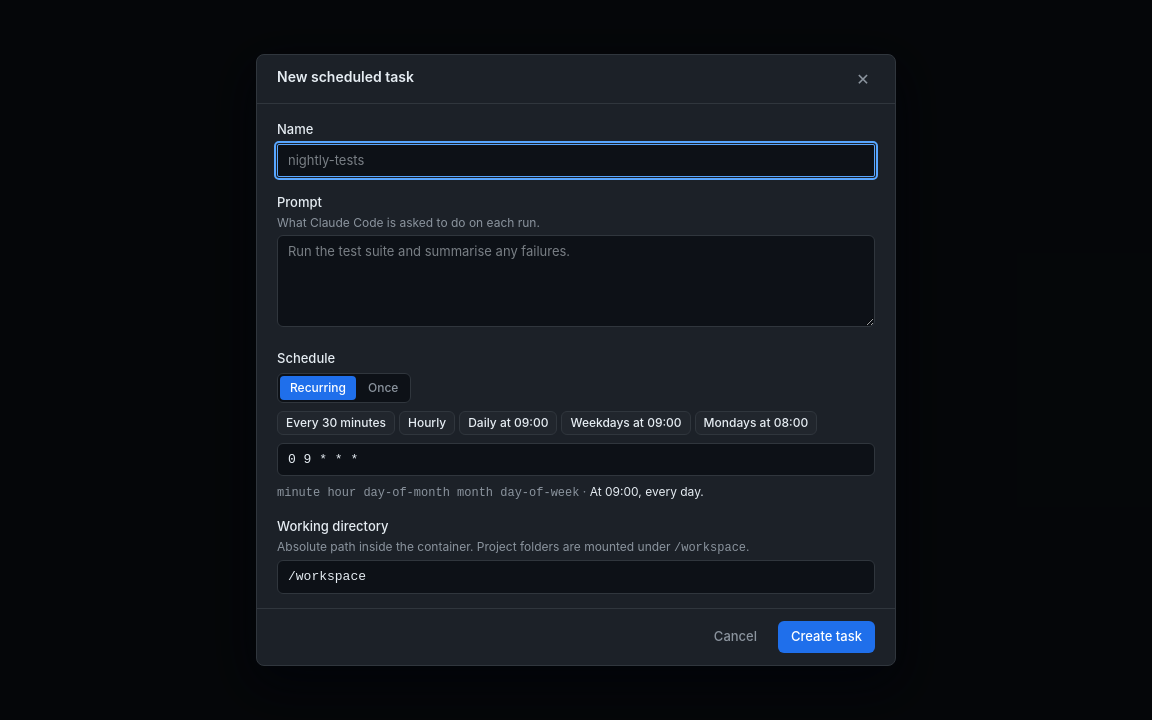
Test: TaskEditorModal › reads the cron expression back in English
Replace the text in the field named "cron expression" with "0 9 * * 1-5" at (576, 459), box [277,442,875,476]
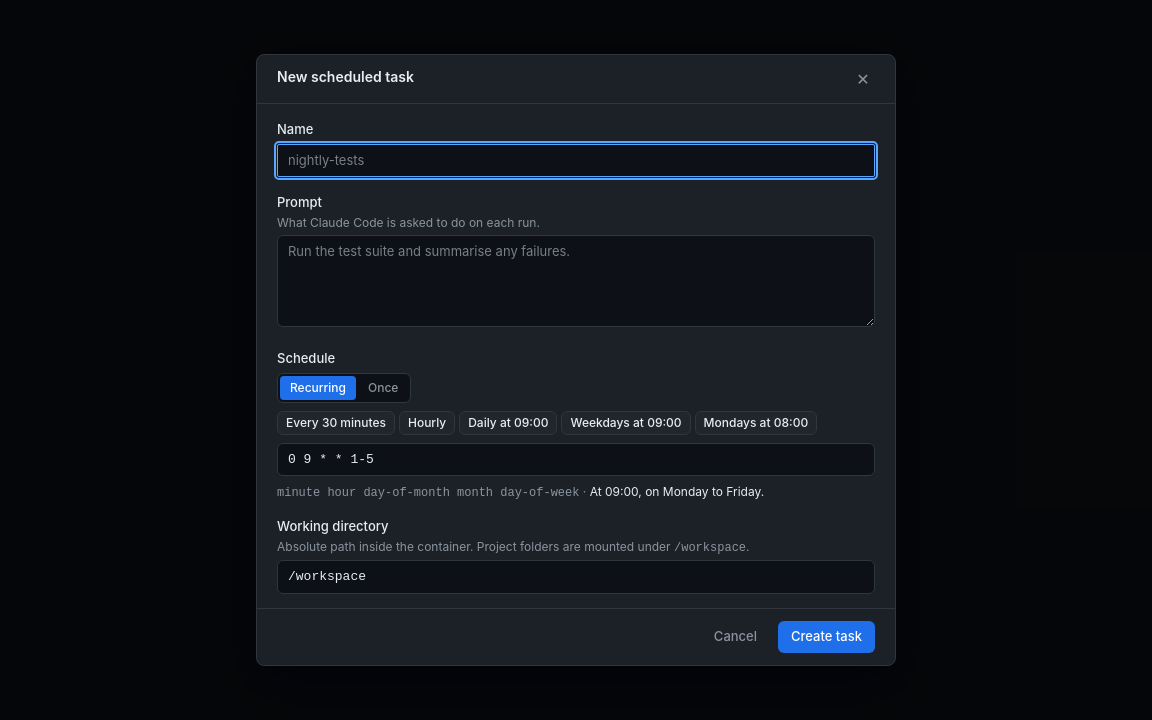
Now the text "At 09:00, on Monday to Friday." is shown, box [590,484,764,499]
Click the button "Hourly" at (427, 422), box [399,410,455,434]
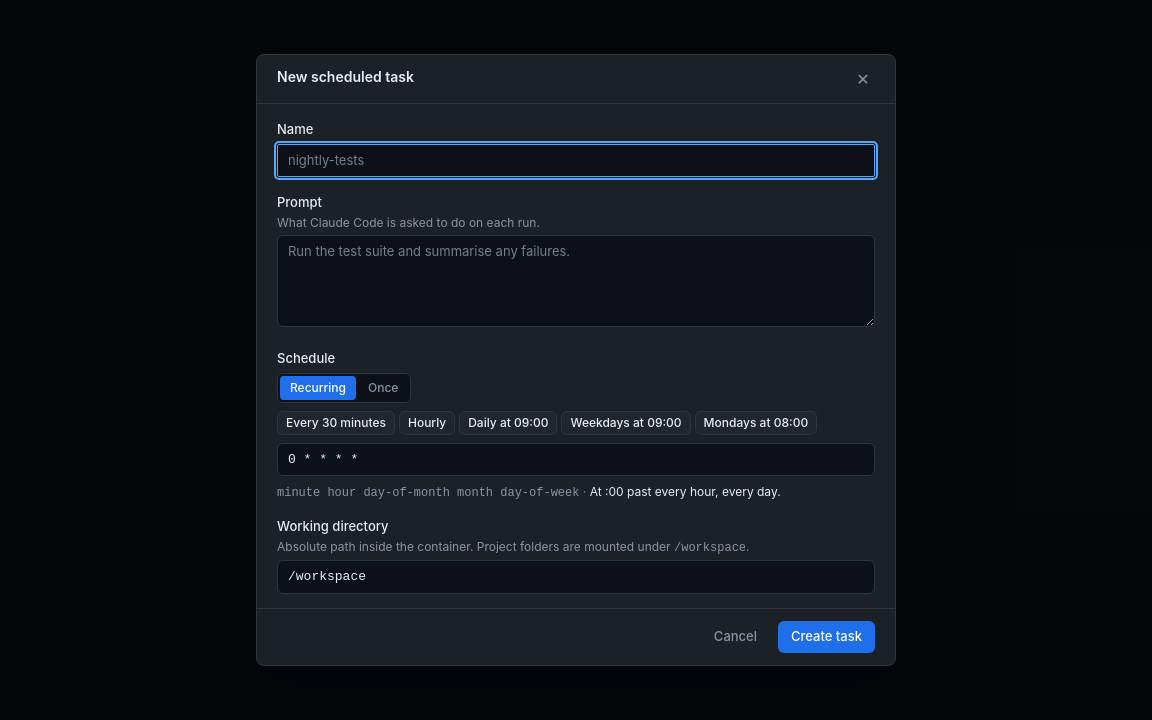
Now the field named "cron expression" holds "0 * * * *", box [277,442,875,476]
Now the text "At :00 past every hour, every day." is shown, box [590,484,781,499]
